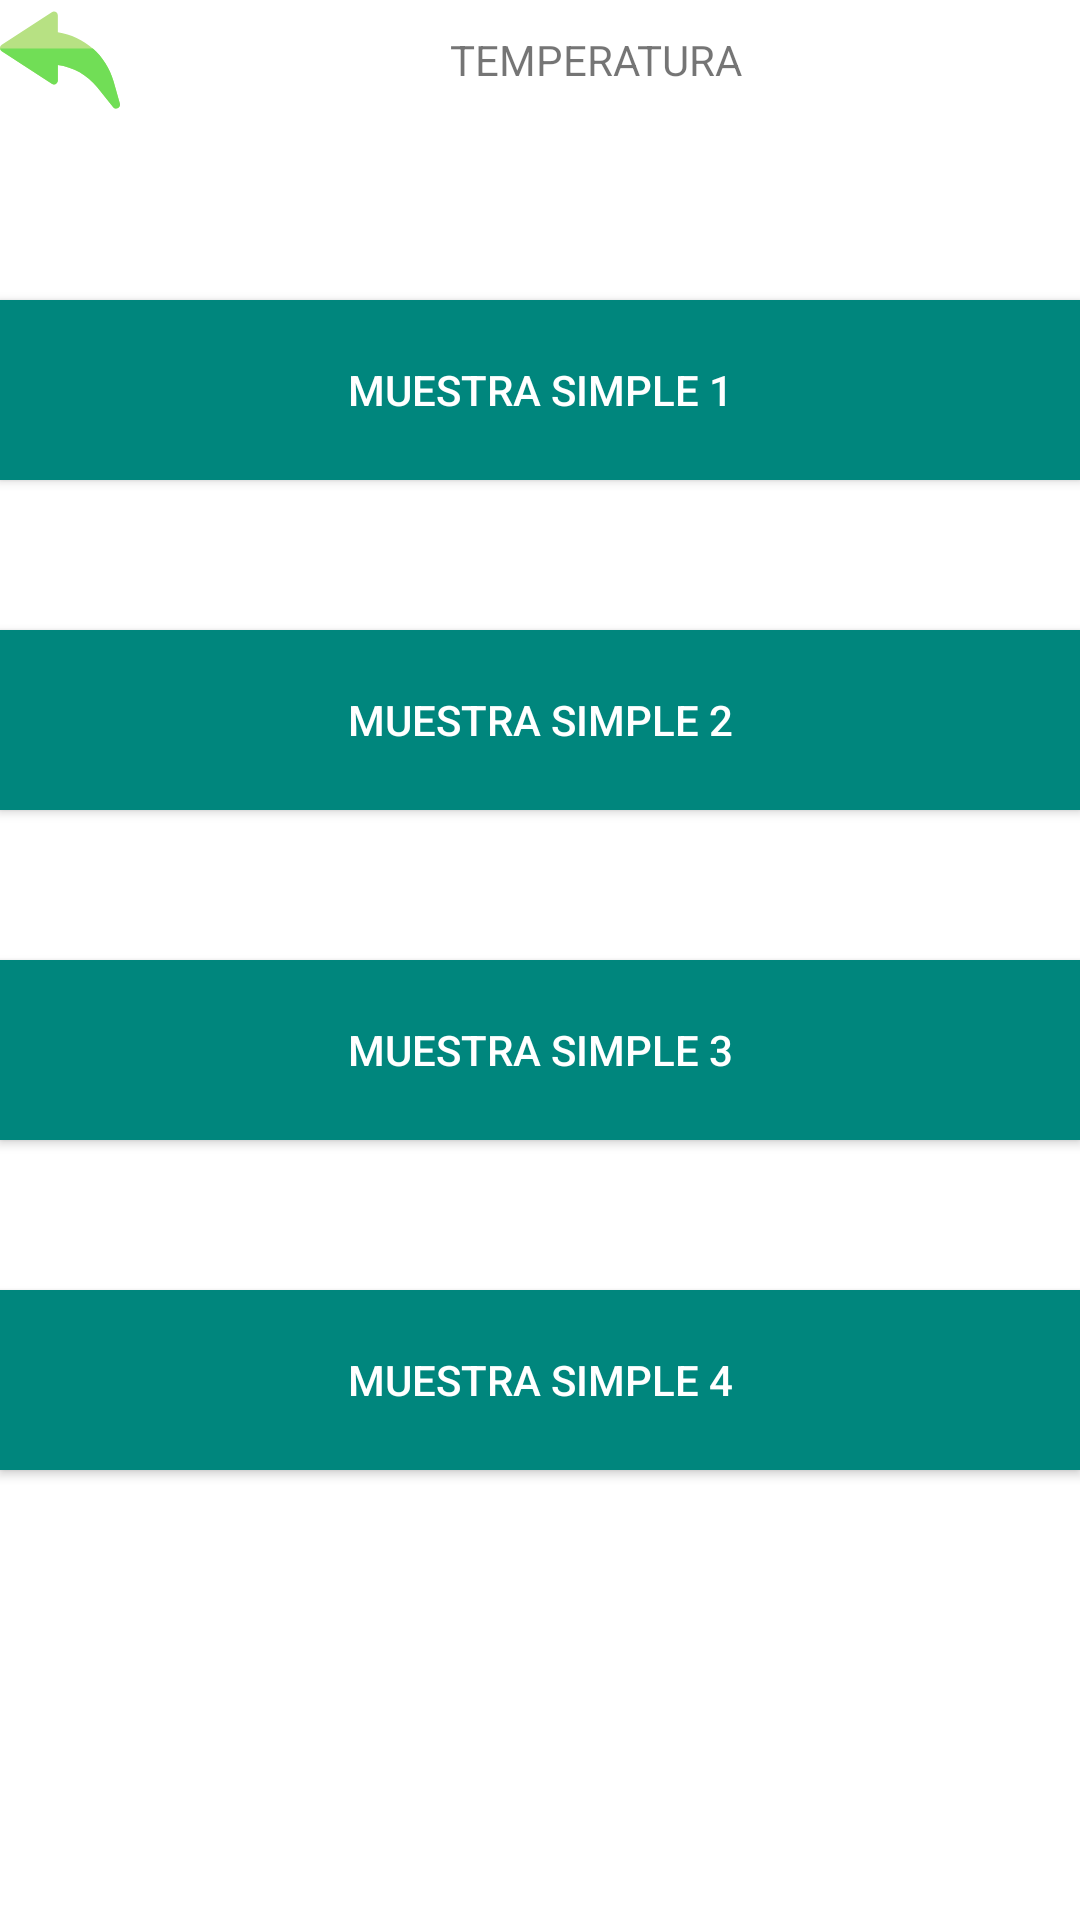

Locate icon controls on the screen. Image size 1080px x 1920px, boxes as (x1, y1, x2, y2).
return: (0, 11, 120, 109)
